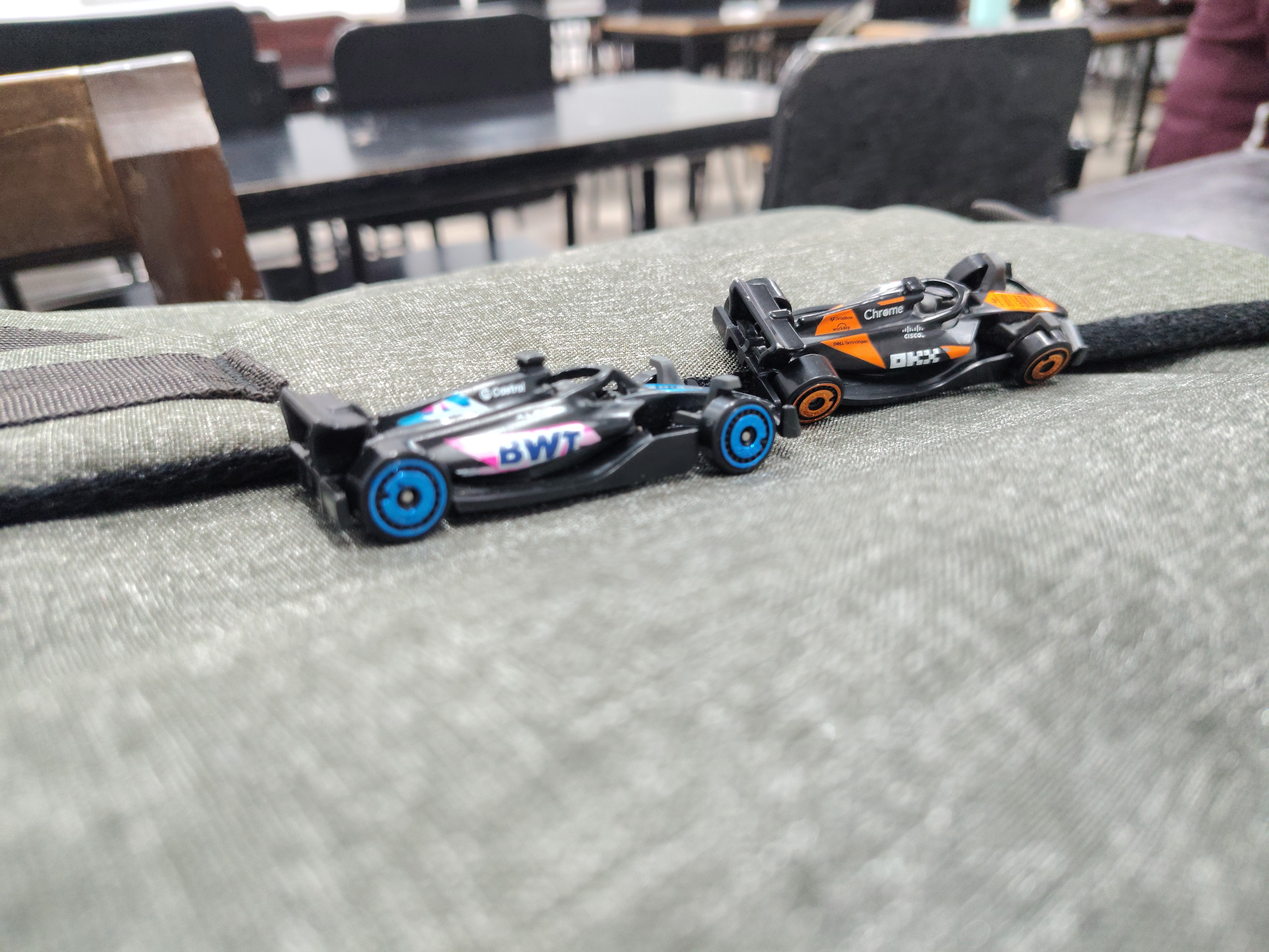Alpine A524: (226, 293, 781, 514)
McLaren MCL40: (686, 225, 1111, 423)
